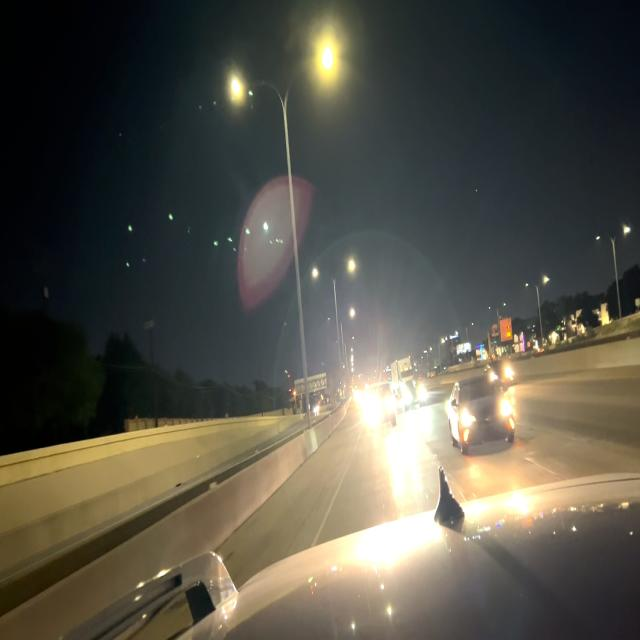back-of-sign: (293, 370, 327, 397)
